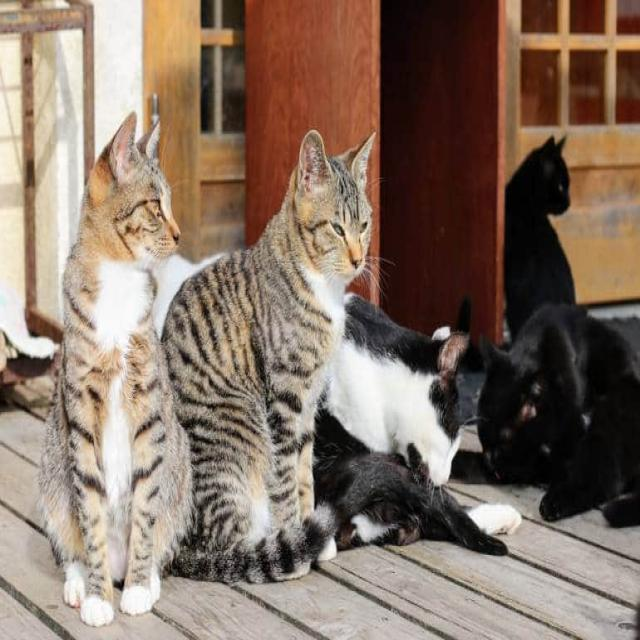cat: (162, 134, 373, 582), (39, 114, 191, 626), (479, 304, 640, 525), (315, 407, 521, 555), (321, 294, 468, 486), (505, 138, 575, 340)
